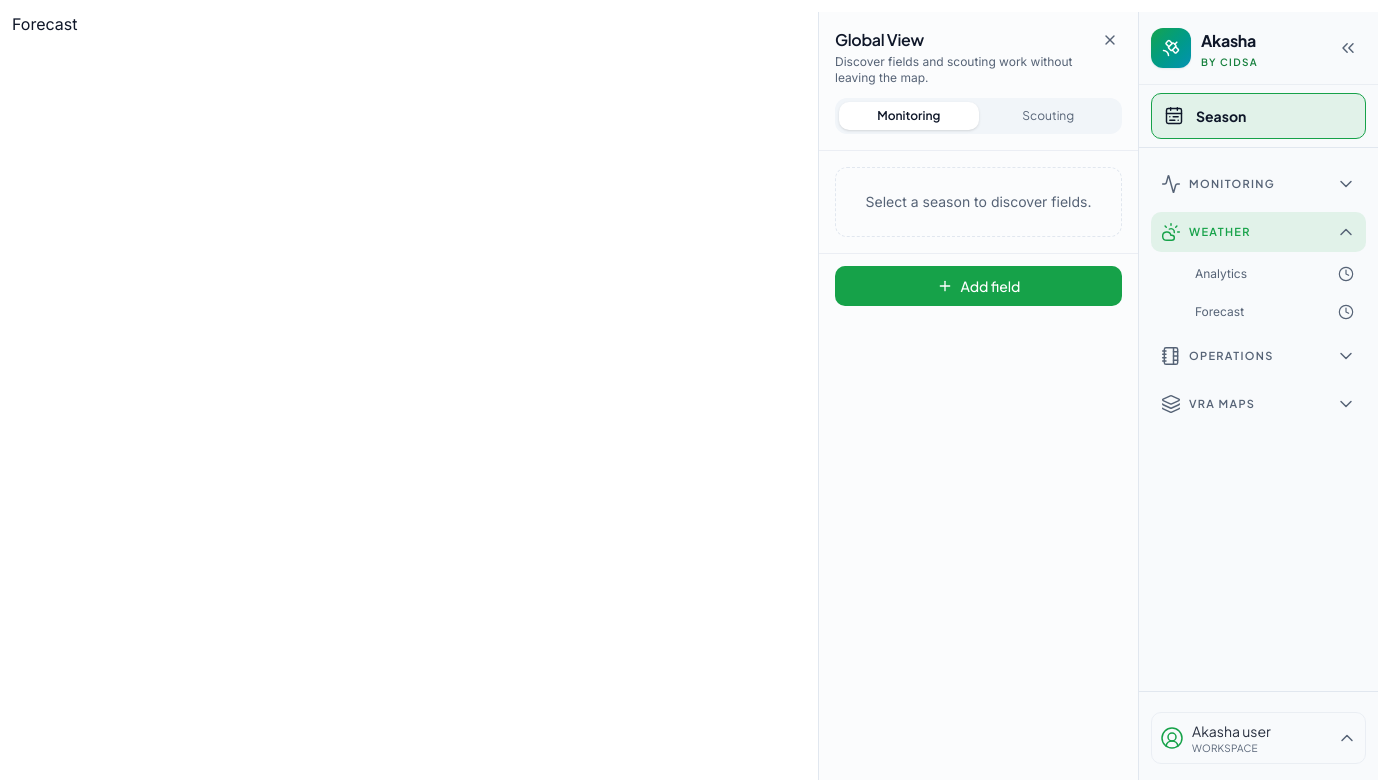
Test: AppShell › keeps non-active nav groups collapsed until expanded
Click the button with test id "nav-group-toggle-monitoring": click(1258, 184) [1151,164,1366,204]
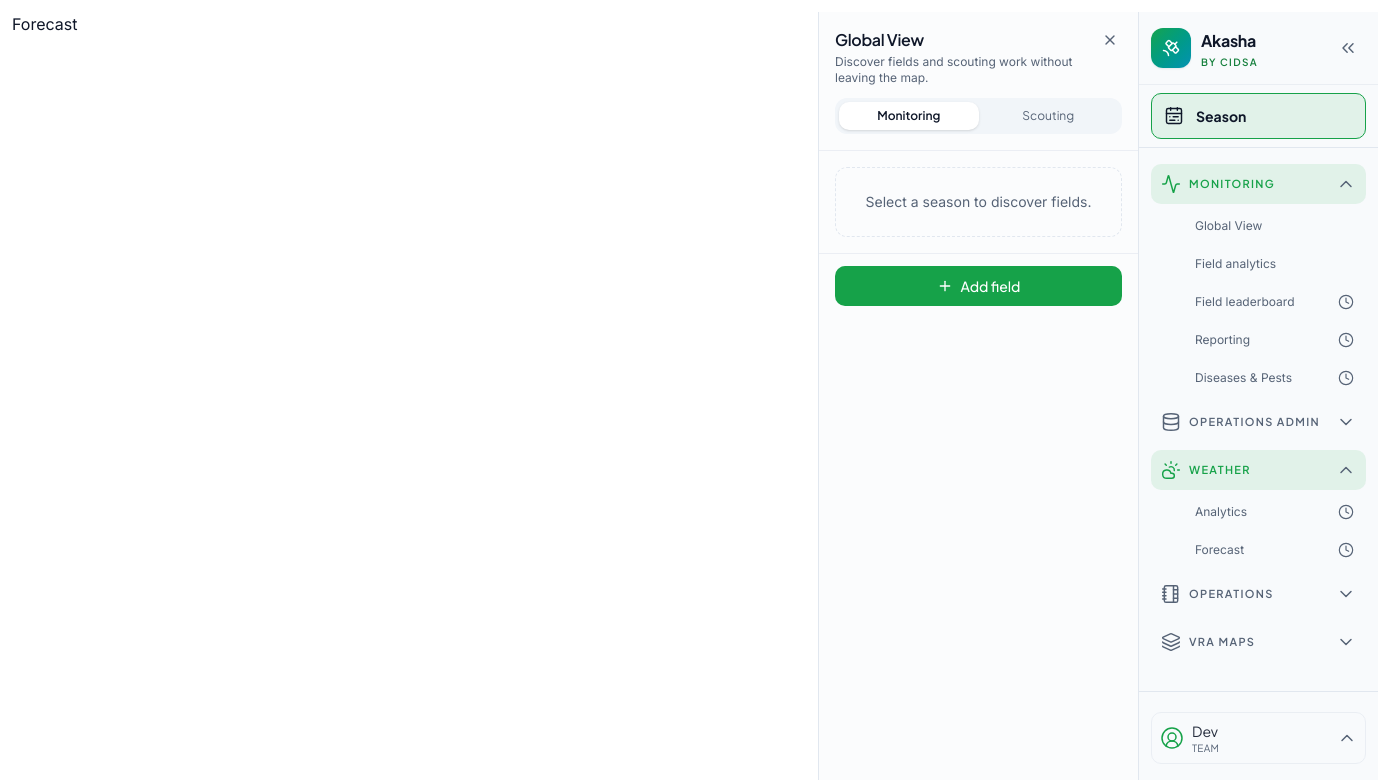
Expected: the link with test id "nav-link-field-analytics" is shown, [1195,256,1276,271]
